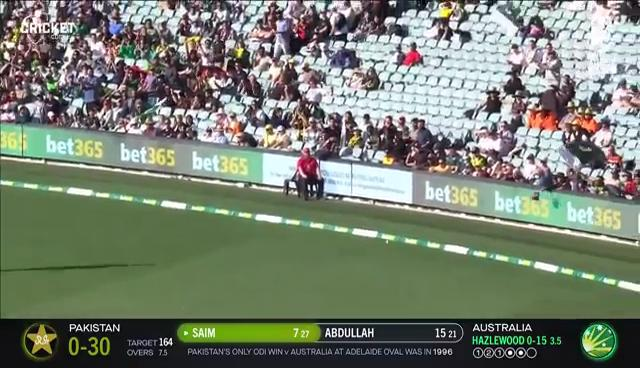ball: (385, 240, 390, 245)
